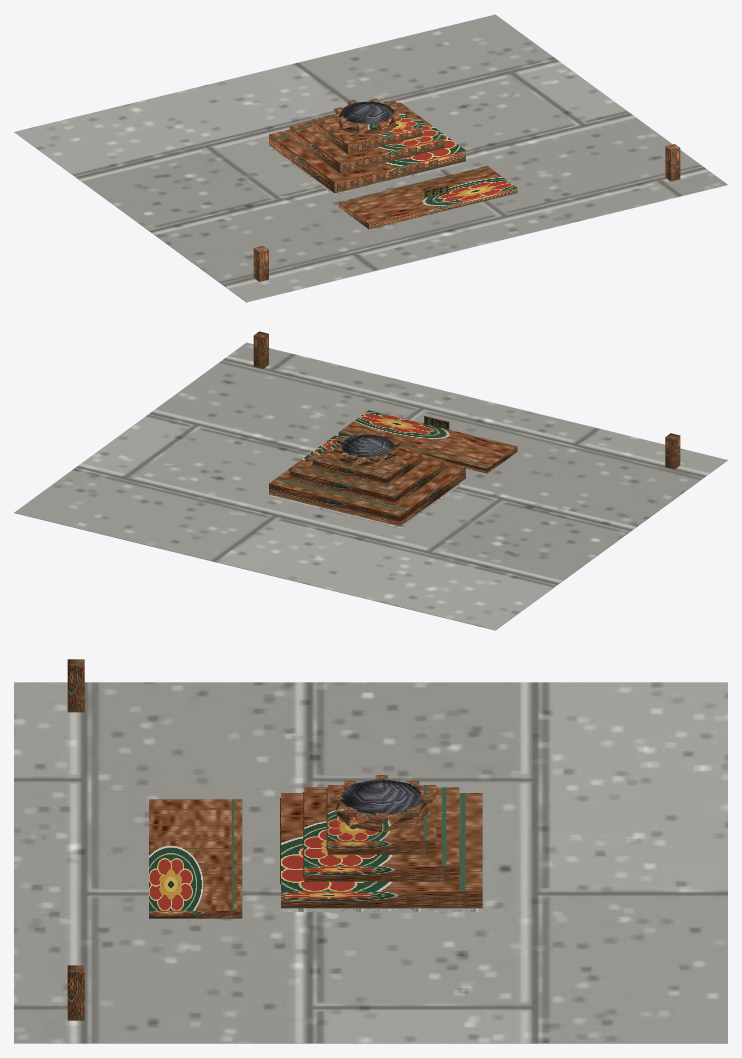
3 renders of one model, top to bottom at view 1: azimuth 30°, elevation 25°; view 2: azimuth 150°, elevation 25°; view 3: azimuth 270°, elevation 25°, orthographic. The views are drawn at different scales.
Parts seen in each view (by area): view 1: 11710_01_05506_049_01_L2__base, 11710_01_05506_049_02_L2__body, 11710_01_05506_049_05_L2__openings, 11710_01_05506_049_06_L2__green, 11710_01_05506_049_03_L2__roof; view 2: 11710_01_05506_049_01_L2__base, 11710_01_05506_049_02_L2__body, 11710_01_05506_049_06_L2__green, 11710_01_05506_049_03_L2__roof; view 3: 11710_01_05506_049_01_L2__base, 11710_01_05506_049_02_L2__body, 11710_01_05506_049_03_L2__roof, 11710_01_05506_049_06_L2__green.
Boxes of the visible parts, x1,y1,x2,y2 form: 11710_01_05506_049_01_L2__base: [14, 14, 727, 302]; 11710_01_05506_049_02_L2__body: [269, 98, 517, 229]; 11710_01_05506_049_05_L2__openings: [337, 129, 443, 190]; 11710_01_05506_049_06_L2__green: [253, 144, 680, 281]; 11710_01_05506_049_03_L2__roof: [340, 101, 394, 124]; 11710_01_05506_049_01_L2__base: [14, 342, 727, 630]; 11710_01_05506_049_02_L2__body: [269, 410, 517, 526]; 11710_01_05506_049_06_L2__green: [253, 331, 680, 469]; 11710_01_05506_049_03_L2__roof: [340, 434, 394, 457]; 11710_01_05506_049_01_L2__base: [14, 682, 727, 1043]; 11710_01_05506_049_02_L2__body: [149, 775, 482, 918]; 11710_01_05506_049_03_L2__roof: [340, 779, 422, 814]; 11710_01_05506_049_06_L2__green: [67, 659, 84, 1020].
Bounding box in the file's own units: 110 × 11 × 92.
5 materials, 5 textured.
